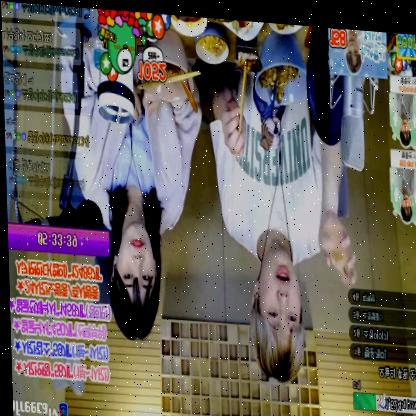donation: (96, 6, 172, 85), (328, 21, 387, 72), (387, 141, 416, 221), (386, 66, 416, 142), (388, 25, 416, 69)
streamer: (205, 48, 358, 383), (56, 17, 207, 342)
